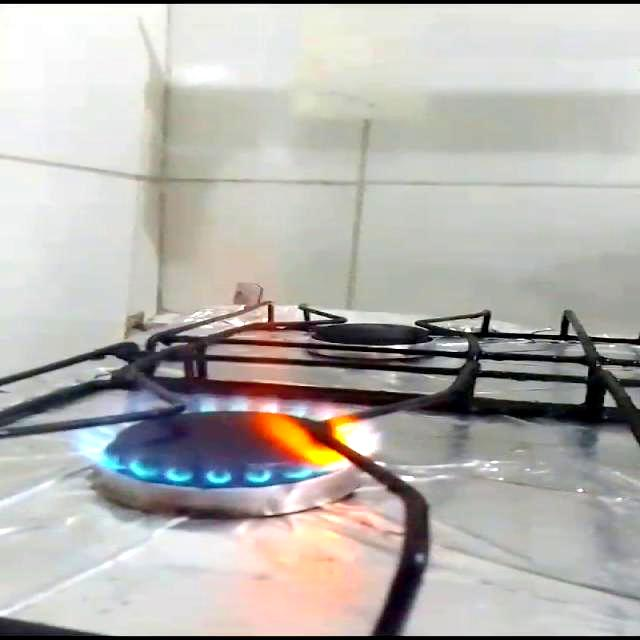fire: (62, 292, 390, 492)
